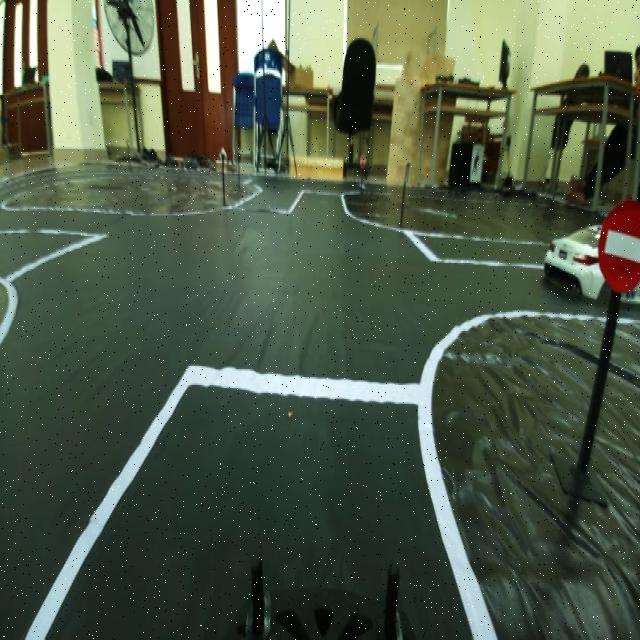no_entry: (591, 201, 640, 290)
